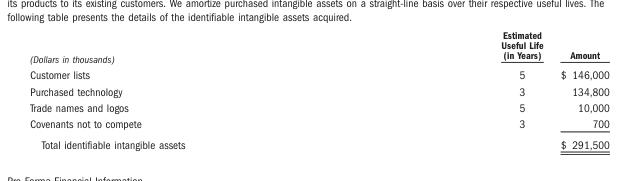table: (29, 28, 608, 150)
table column: (29, 28, 342, 150), (342, 28, 551, 150), (551, 28, 608, 150)
table column header: (29, 28, 608, 66)
table row: (29, 28, 608, 66), (29, 115, 608, 133), (29, 82, 608, 99), (29, 133, 608, 150), (29, 66, 608, 82), (29, 99, 608, 115)
